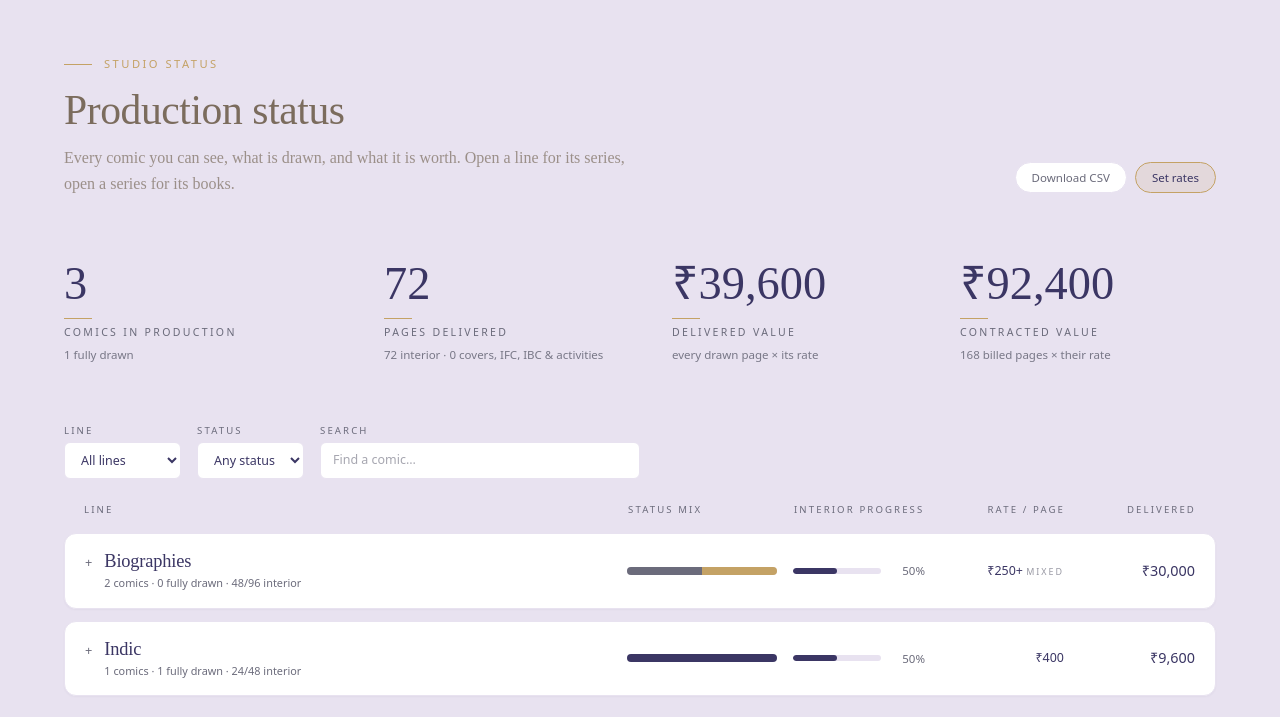
ProductionDashboard › filters by status
This screenshot has width=1280, height=717.
Select "Published" in the dropdown named "Filter by status": (250, 460) [197, 442, 304, 479]
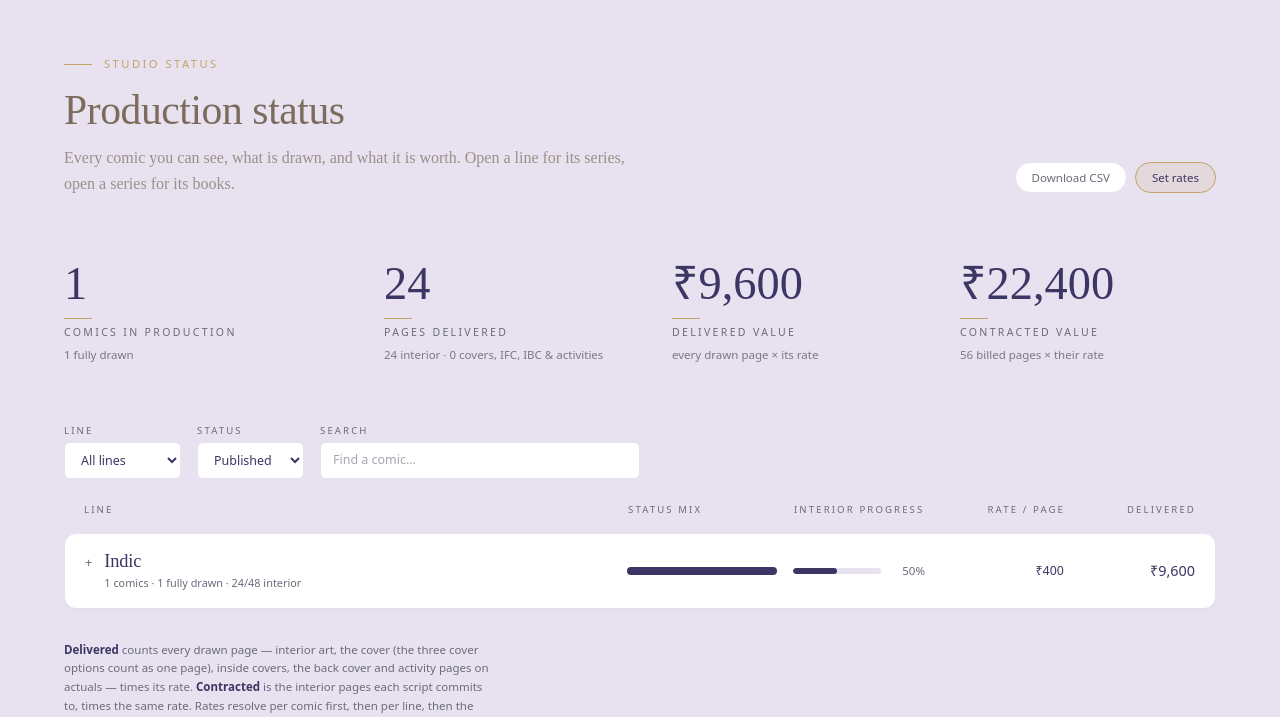
Expected: the heading "Indic" is shown, [104, 551, 141, 571]
Now the button "Biographies" is gone
